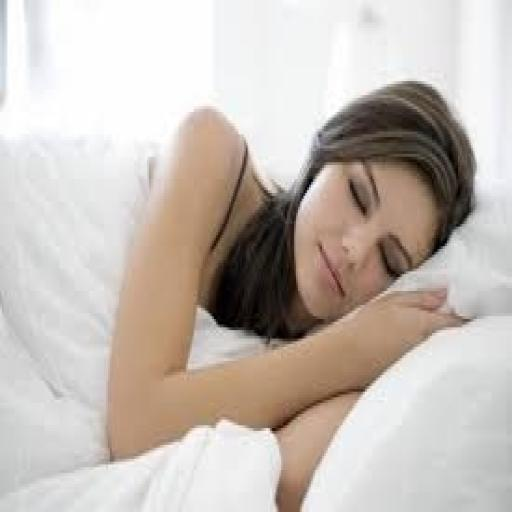sleeping: (100, 76, 478, 509)
